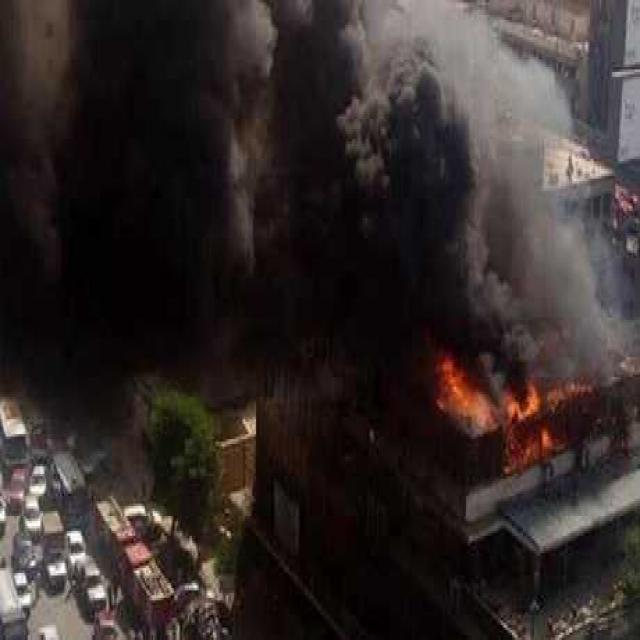Fire: (435, 352, 607, 474)
